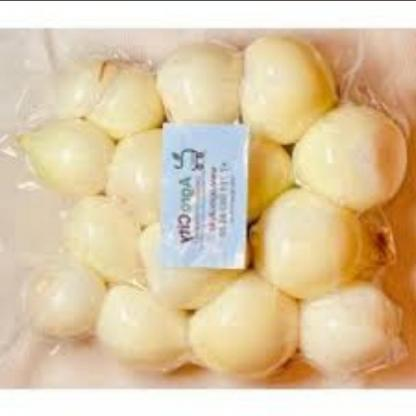onion: (21, 62, 402, 366)
